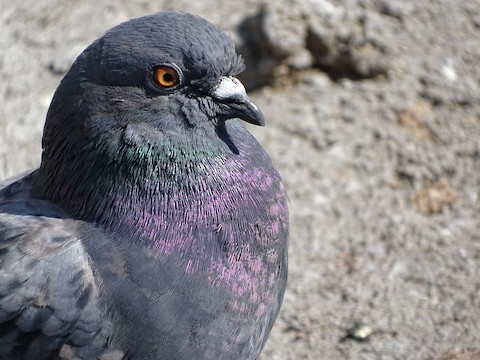pigeon: (6, 10, 294, 351)
